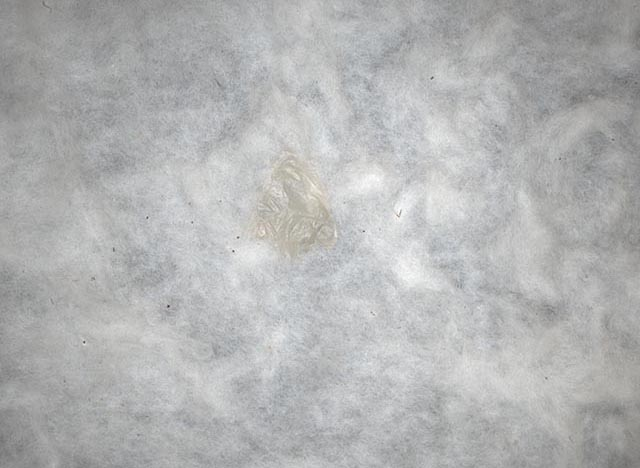plastic film: (248, 147, 342, 261)
